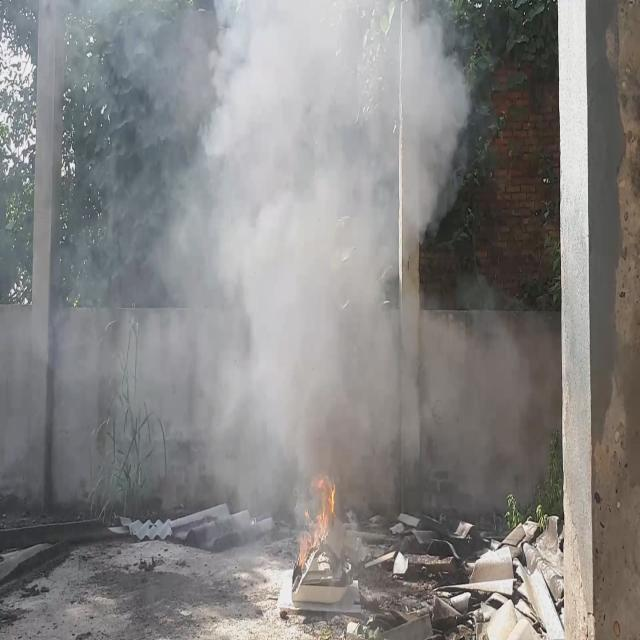Fire: (297, 476, 337, 570)
Smoke: (0, 0, 474, 541)
